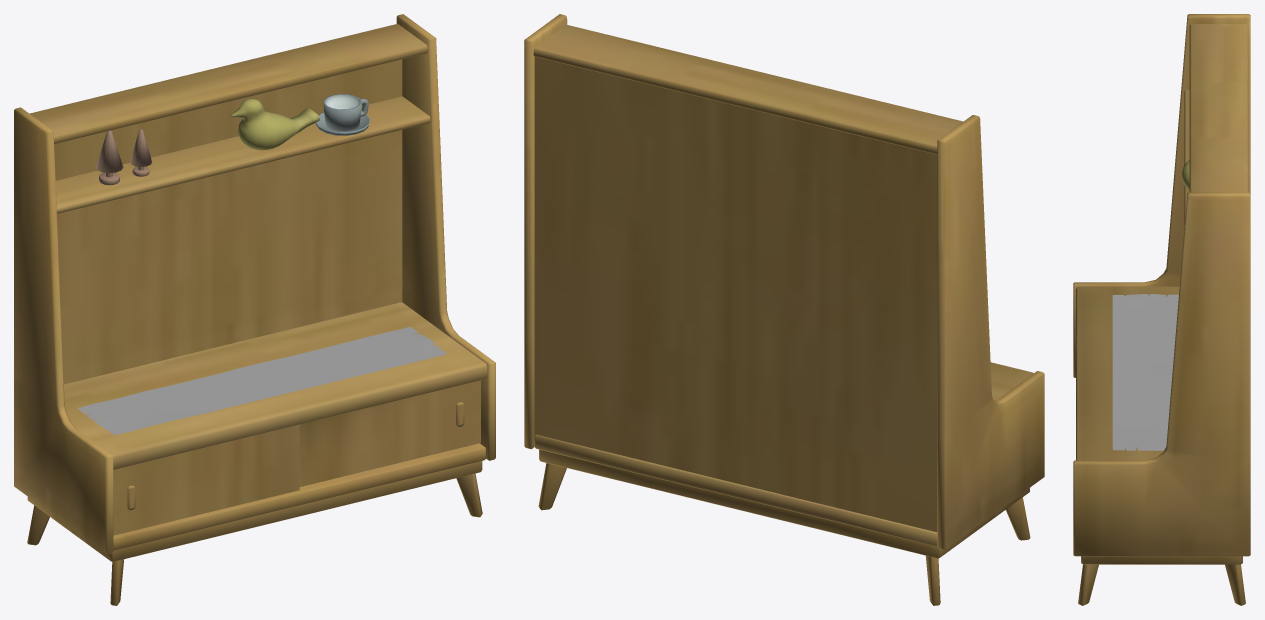
3 renders of one model, left to right at view 1: azimuth 30°, elevation 25°; view 2: azimuth 150°, elevation 25°; view 3: azimuth 270°, elevation 25°, orthographic. The views are drawn at different scales.
Size of the model in its own units: 20 by 21.29 by 8.24.
2 materials, 2 textured.
